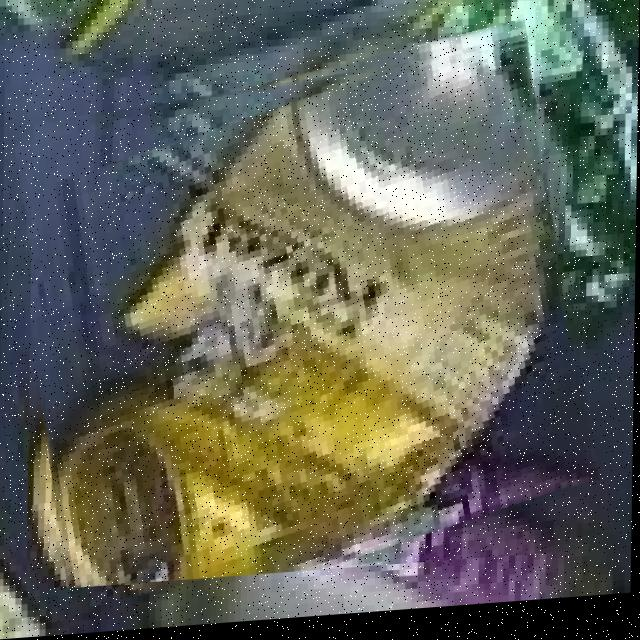litter: (28, 43, 589, 592)
